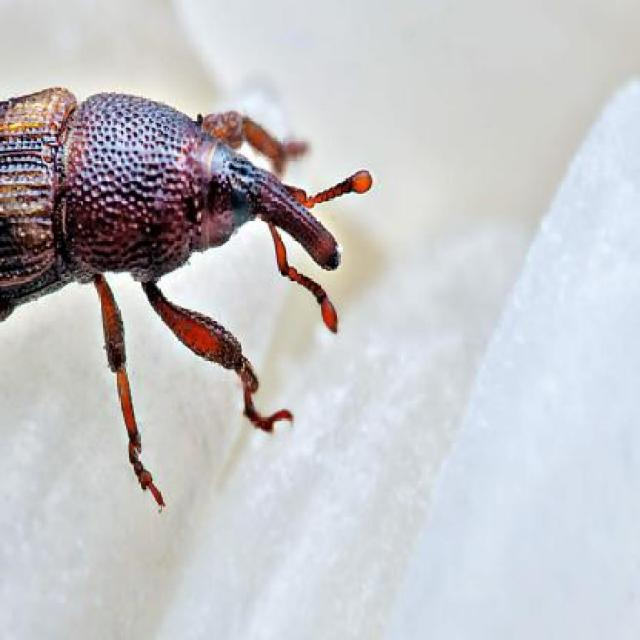rice-bug: (0, 82, 360, 456)
